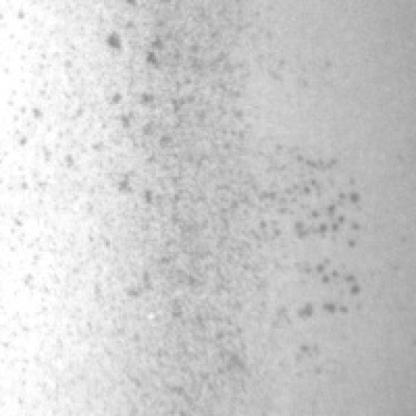pitted_surface: (11, 0, 366, 372)
